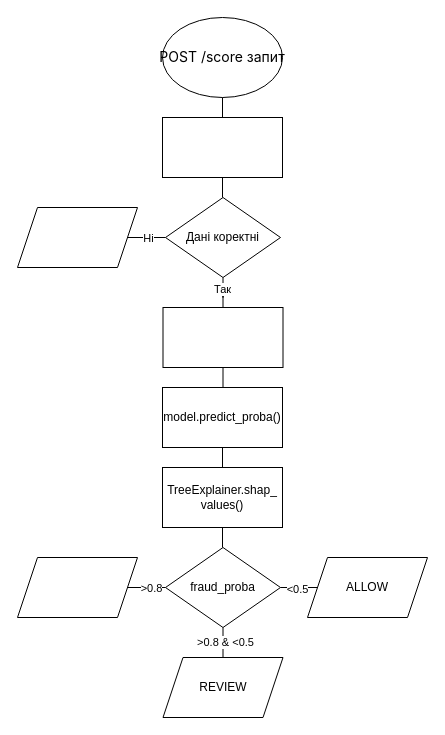
This 445x735 diagram has some shape labels left out. Each missing label, with the box of its shape:
BLOCK: (16, 556, 138, 618)
HTTP 422: (16, 206, 138, 268)
prepare_single_ transaction(): (162, 306, 283, 368)
Pydantic валідація: (162, 116, 282, 178)
